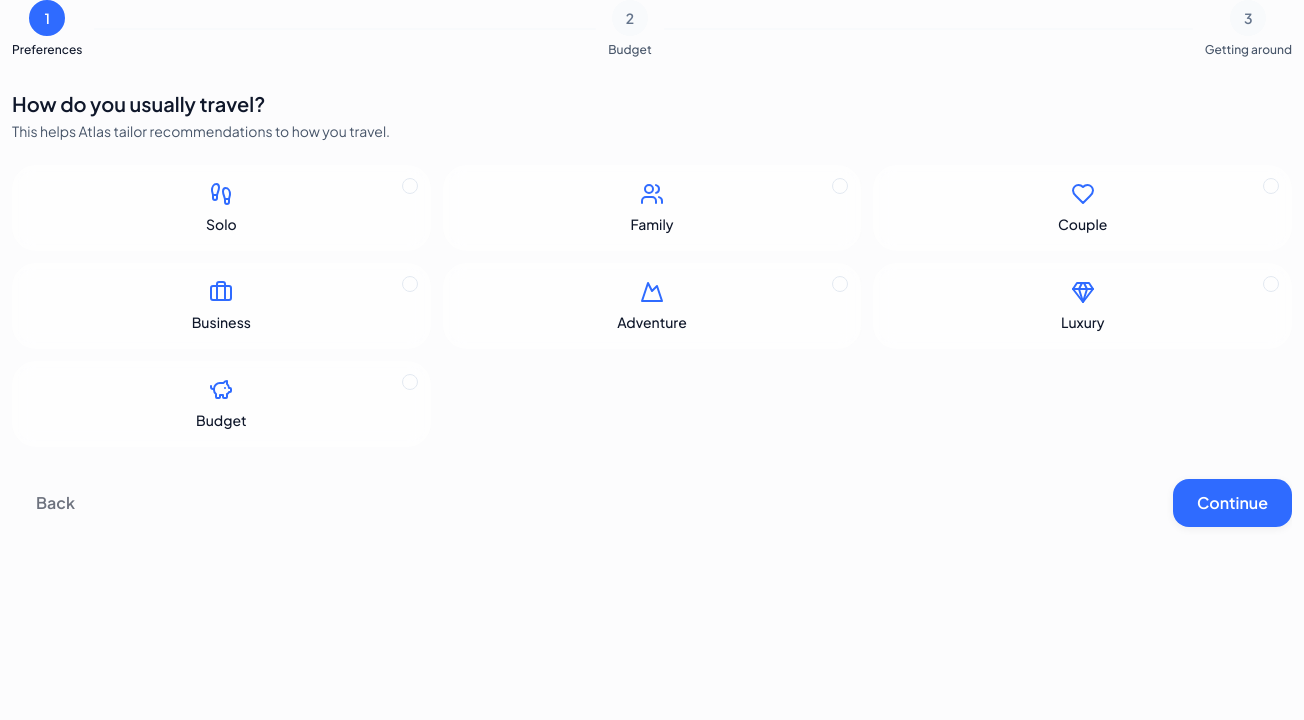
Scenario: ProfileWizard › shows an inline error and stays on the same step if saving fails
This screenshot has width=1304, height=720.
Expected: the heading "How do you usually travel?" is shown, [12,91,265,116]
Click the radio button labelled "Solo".
click(221, 208)  # box [12,165,431,251]
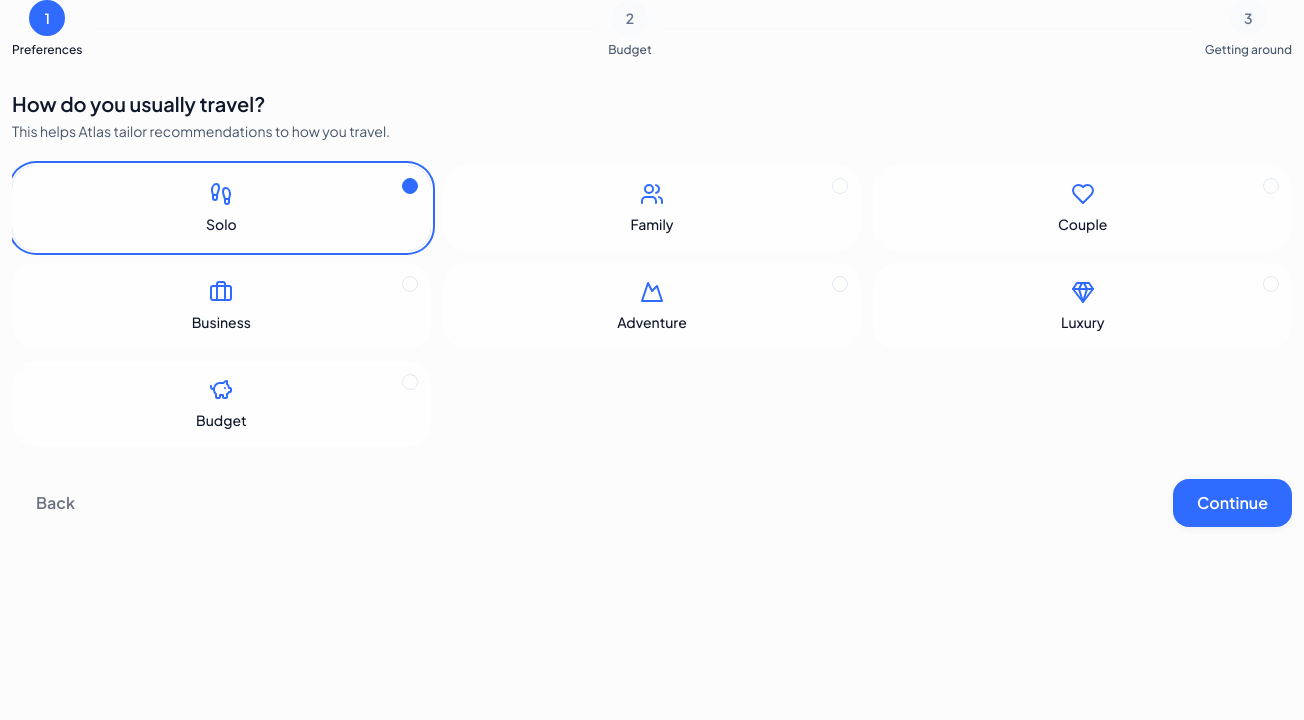
Click the button "Continue".
click(1232, 503)  # box [1173,479,1292,527]
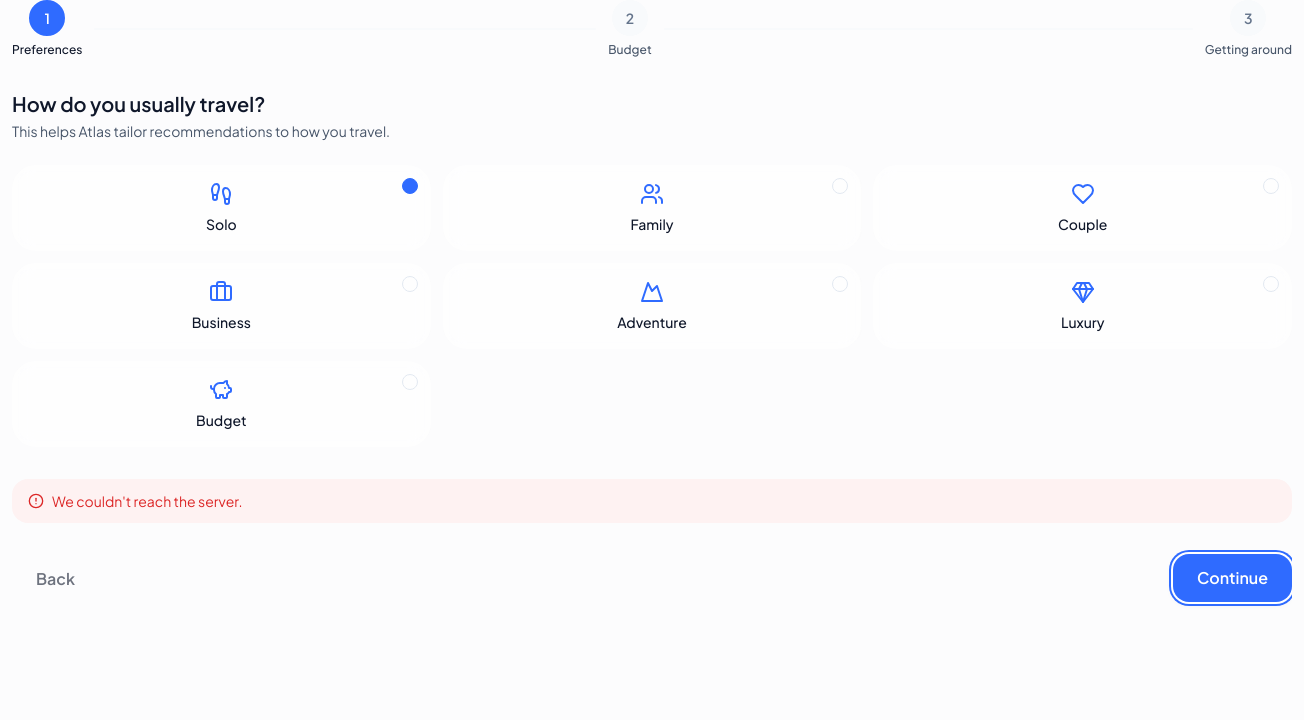
Expected: the heading "How do you usually travel?" is shown, [12,91,265,116]
Now the text "We couldn't reach the server." is shown, box [52,491,242,511]
